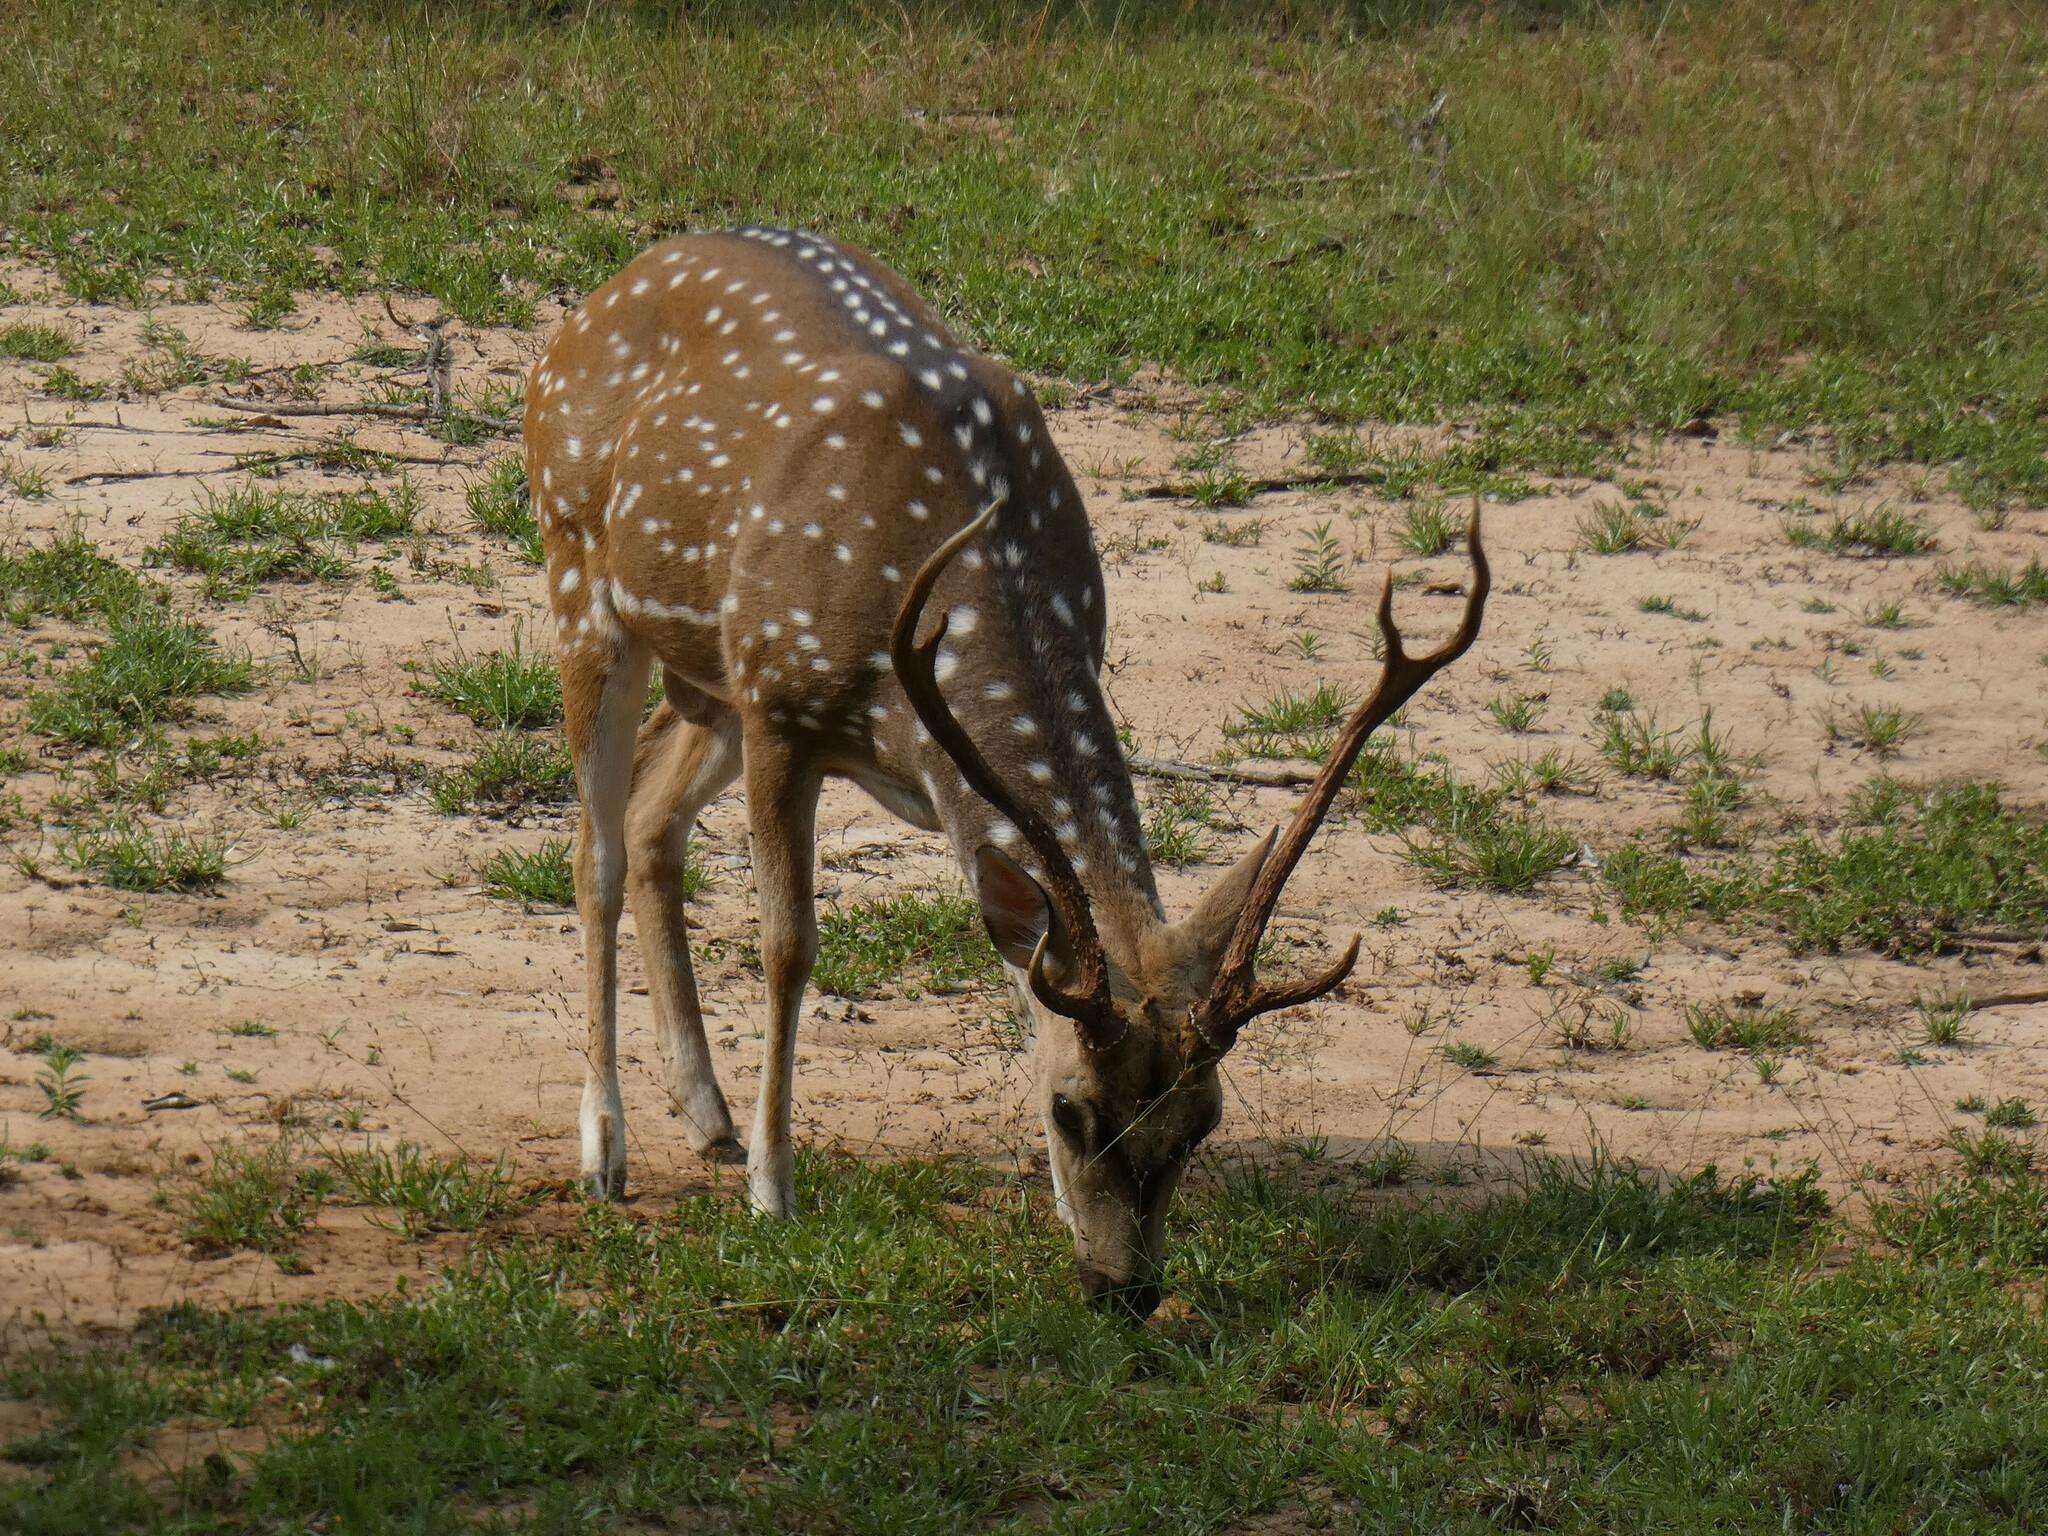Deer: (524, 227, 1488, 1315)
